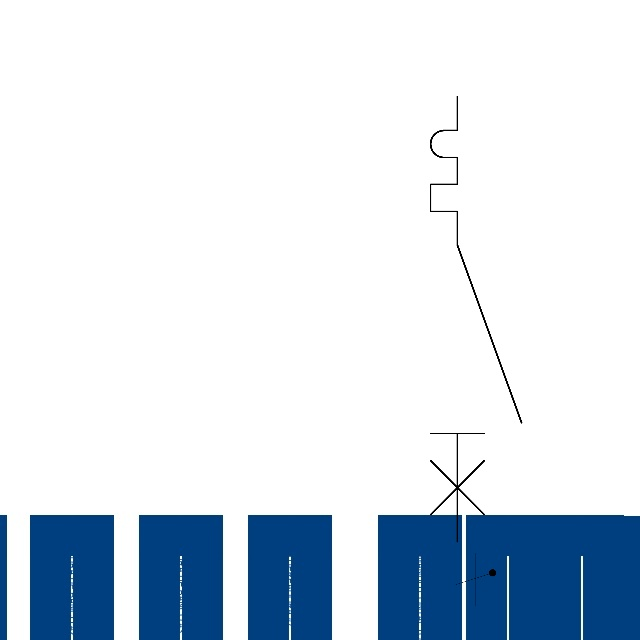interruptor_termomagnetico: (419, 85, 533, 553)
